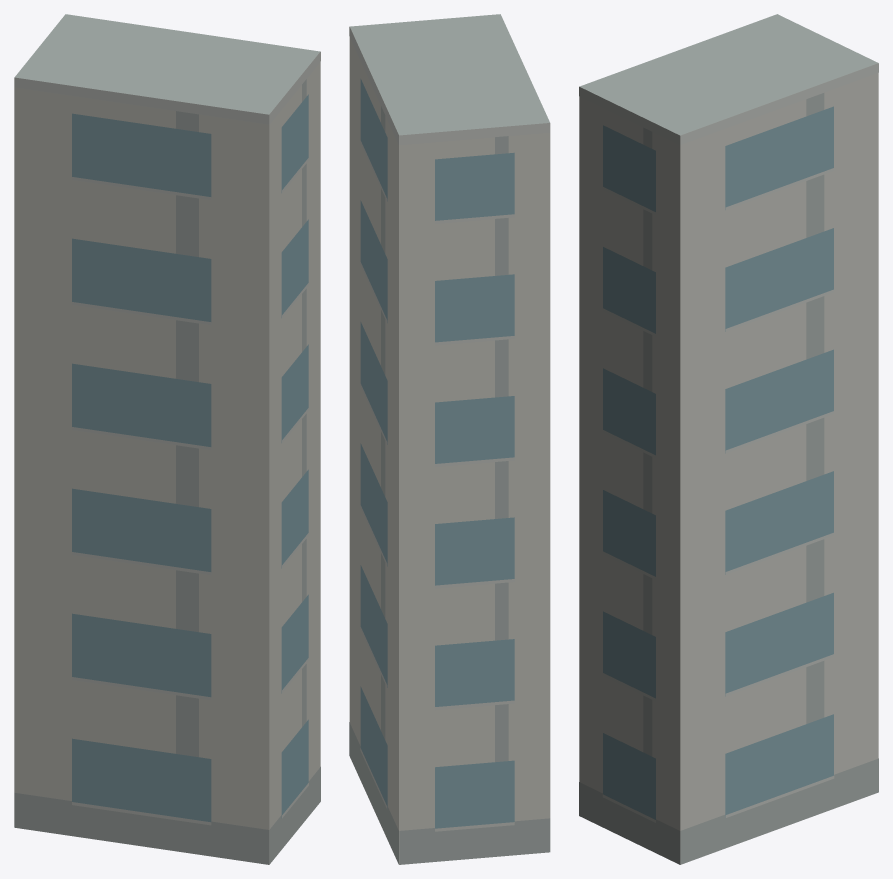
File: survey-upis-32830230.glb
3 views of the same model, side by side, from view 1: azimuth 30°, elevation 25°; view 2: azimuth 150°, elevation 25°; view 3: azimuth 270°, elevation 25° (orthographic). The views are drawn at different scales.
Visible parts, largest first — view 1: survey-upis-32830230.tmp; view 2: survey-upis-32830230.tmp; view 3: survey-upis-32830230.tmp.
Part boxes in pixels (left/top/right/bottom): survey-upis-32830230.tmp: left=14, top=14, right=320, bottom=864; survey-upis-32830230.tmp: left=349, top=14, right=550, bottom=864; survey-upis-32830230.tmp: left=579, top=14, right=878, bottom=864.
Bounding box in the file's own units: 6.55 × 18.3 × 6.82.
